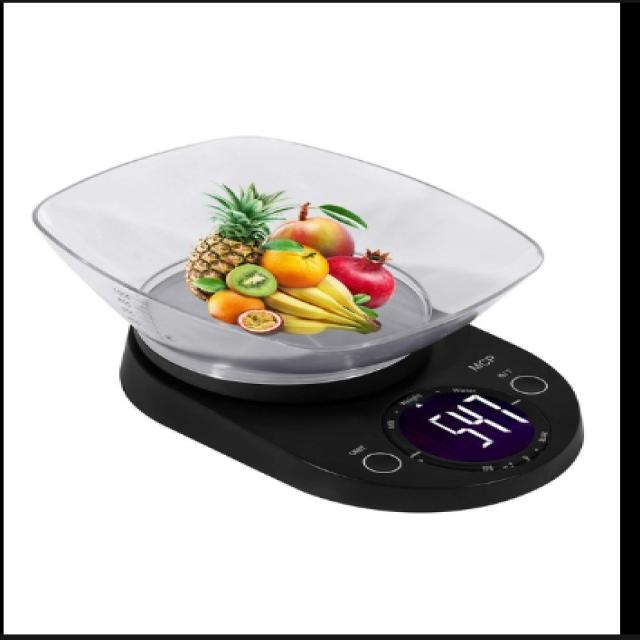2: (445, 404, 513, 434)
5: (431, 408, 494, 454)
7: (466, 392, 534, 431)
screen: (378, 386, 554, 474)
